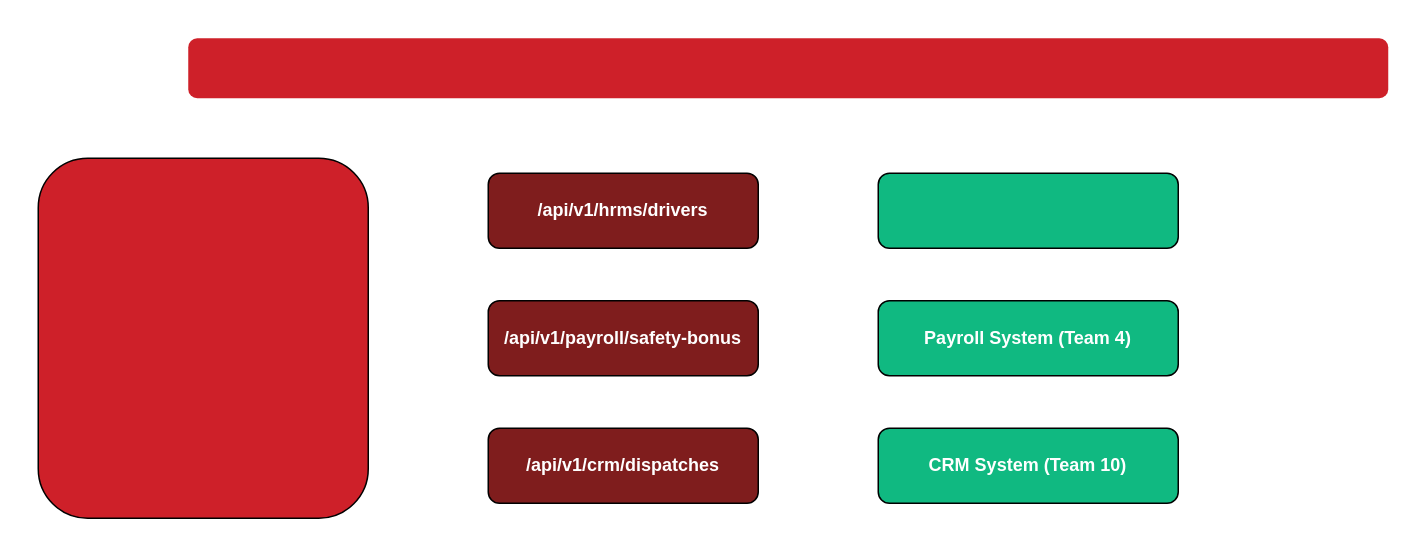
Image size: 1413x545. Some labels were removed from this diagram. Each missing label, with the centre of its shape:
"FIGURE 9: ENTERPRISE SYSTEM INTEGRATION DIAGRAM (HRMS, PAYROLL, CRM)" belongs at (788,68).
"HIRNA MOBILITY FLEET PLATFORM" belongs at (202,337).
"HRMS System (Team 1-4)" belongs at (1027,210).
